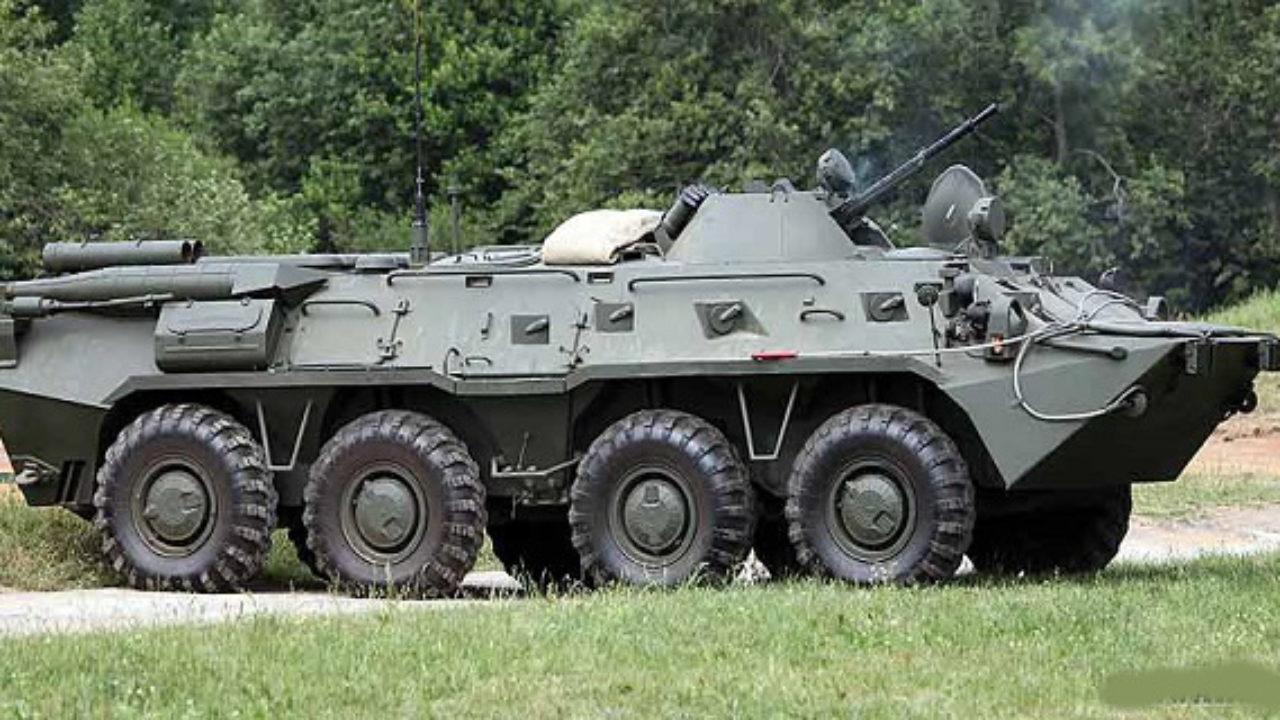tank: (2, 94, 1280, 616)
